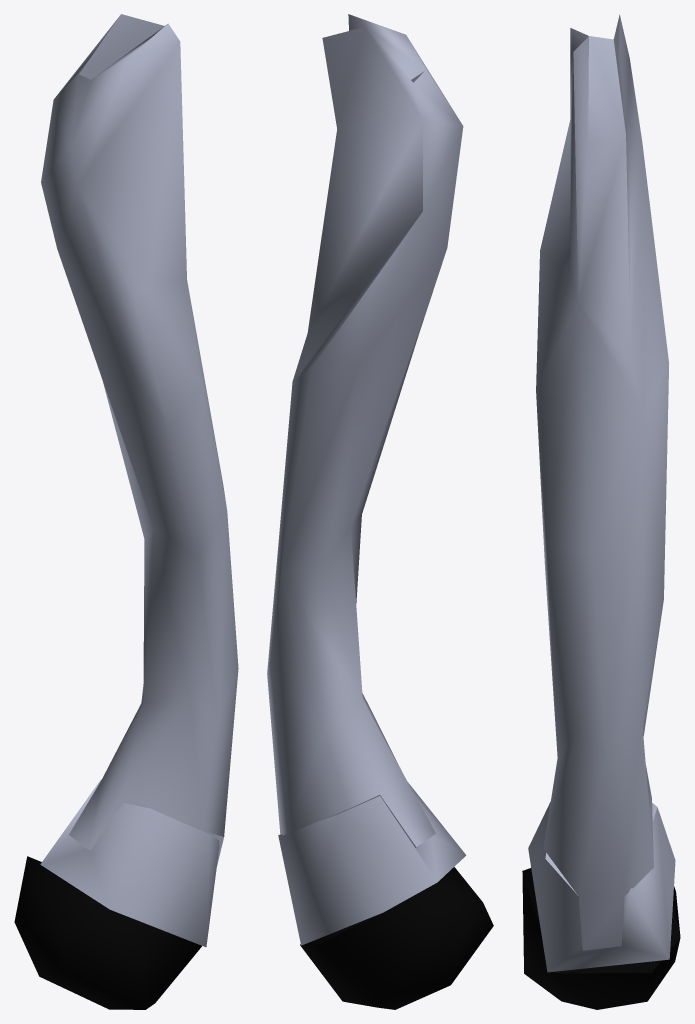
File: calf_dae.dae
3 views of the same model, side by side, from view 1: azimuth 30°, elevation 25°; view 2: azimuth 150°, elevation 25°; view 3: azimuth 270°, elevation 25° (orthographic).
Parts seen in each view (by area): view 1: calf_dae; view 2: calf_dae; view 3: calf_dae.
Boxes of the visible parts, left/top/right/bottom form: calf_dae: left=14, top=14, right=238, bottom=1009; calf_dae: left=267, top=14, right=493, bottom=1009; calf_dae: left=522, top=14, right=680, bottom=1009.
Size of the model in its own units: 0.0585 by 0.0386 by 0.2658.
